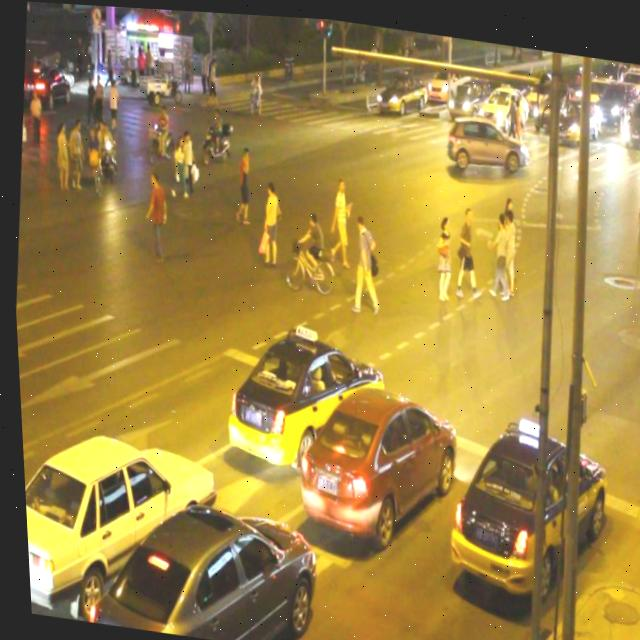car: (17, 417, 220, 633), (79, 485, 314, 640), (437, 414, 607, 601), (285, 376, 458, 547), (215, 313, 386, 478), (442, 106, 528, 172), (372, 58, 427, 116), (471, 75, 528, 126), (444, 70, 486, 116)
